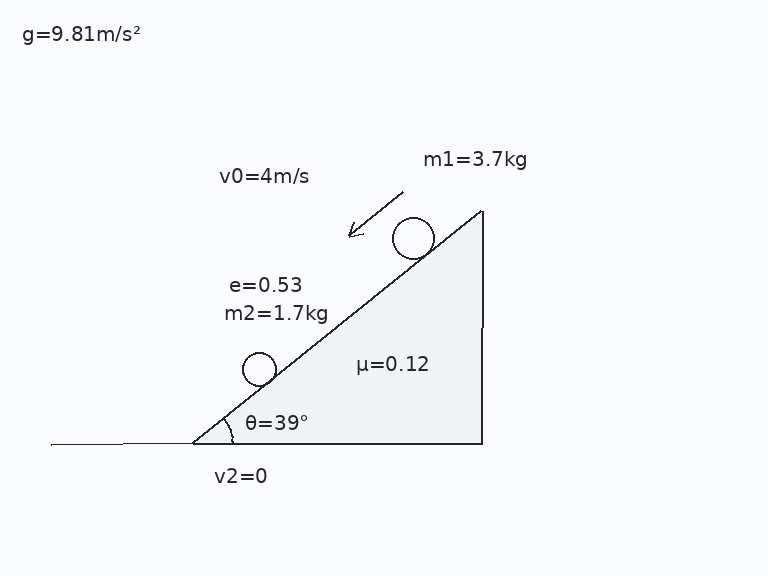ball: (390, 215, 436, 261), (240, 350, 278, 388)
ramp: (191, 209, 483, 446)
